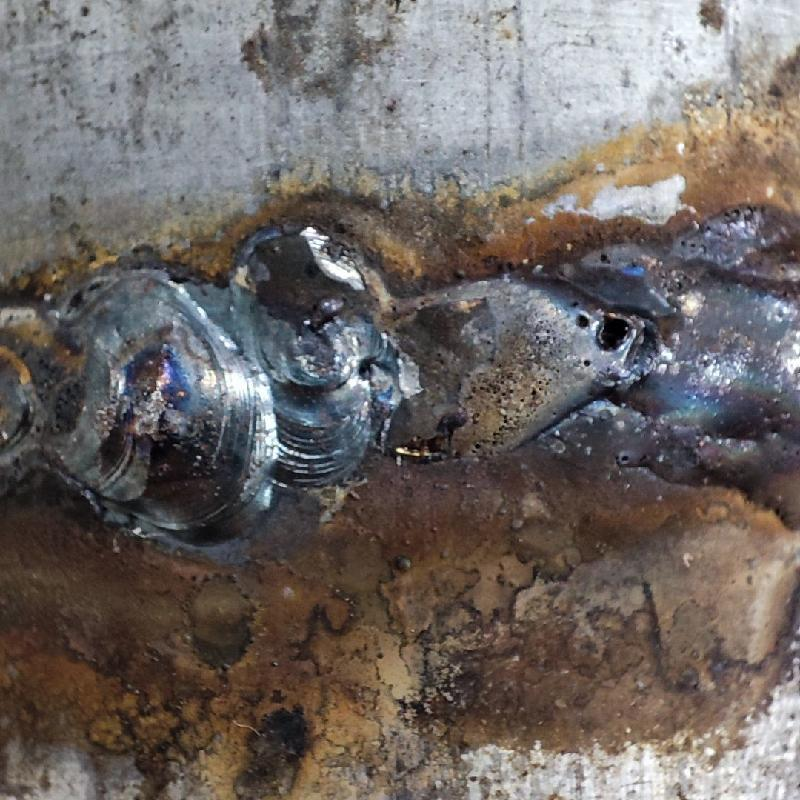Surface_pores: (565, 296, 639, 380)
Weld: (654, 236, 799, 511)
